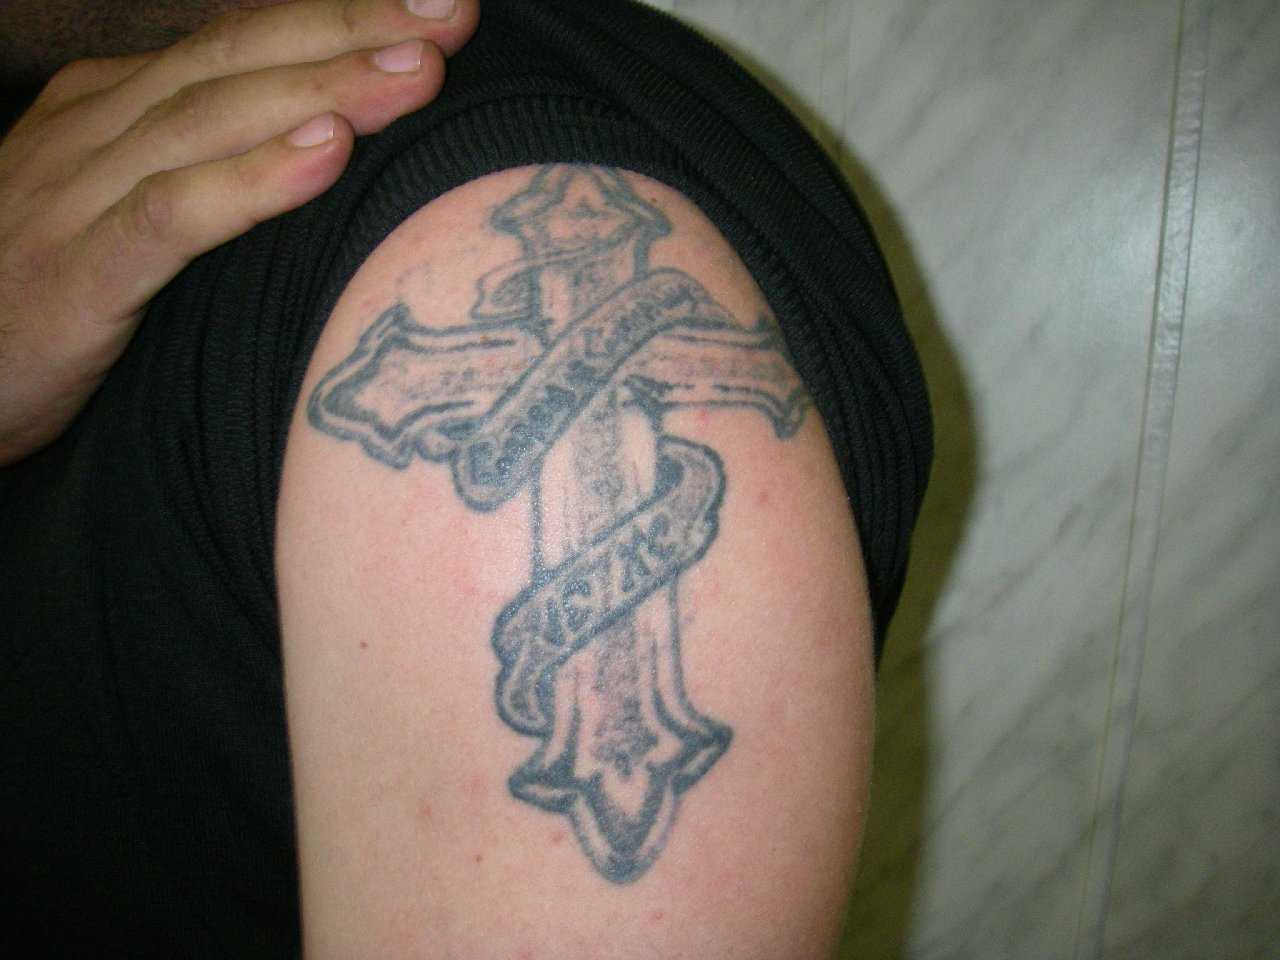tatu9_krest: (279, 143, 846, 896)
